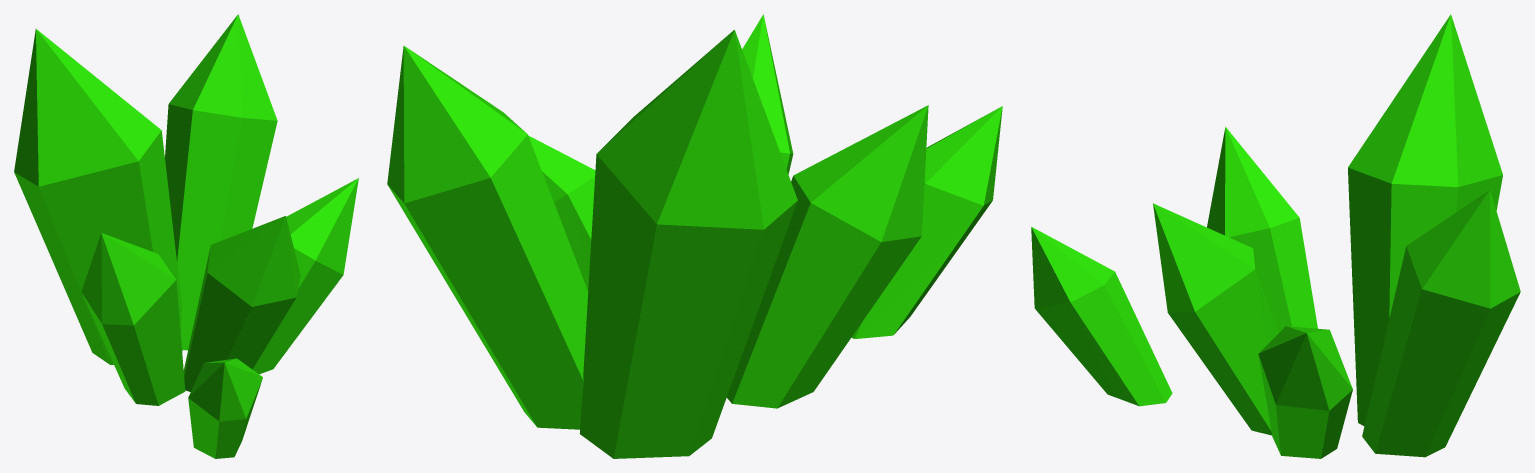
Rendered from cave_crystal3.glb.
3 renders of one model, left to right at view 1: azimuth 30°, elevation 25°; view 2: azimuth 150°, elevation 25°; view 3: azimuth 270°, elevation 25°, orthographic. The views are drawn at different scales.
Parts seen in each view (by area): view 1: Crystal-03-col; view 2: Crystal-03-col; view 3: Crystal-03-col.
Part boxes in pixels (x1,y1,x2,y2): Crystal-03-col: [14, 14, 358, 458]; Crystal-03-col: [387, 14, 1002, 458]; Crystal-03-col: [1031, 14, 1520, 458].
Bounding box in the file's own units: 1.26 × 1.34 × 1.65.
